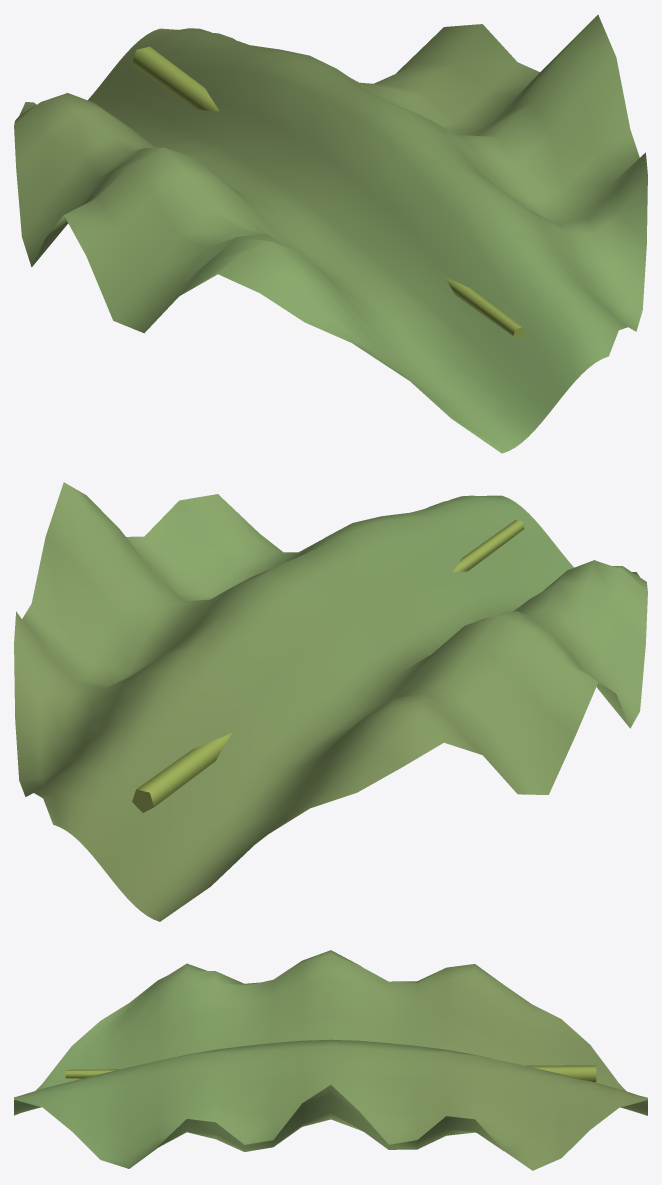
File: lettuce.glb
3 renders of one model, top to bottom at view 1: azimuth 30°, elevation 25°; view 2: azimuth 150°, elevation 25°; view 3: azimuth 270°, elevation 25°, orthographic. The views are drawn at different scales.
Size of the model in its own units: 0.55 by 0.1941 by 0.8.
